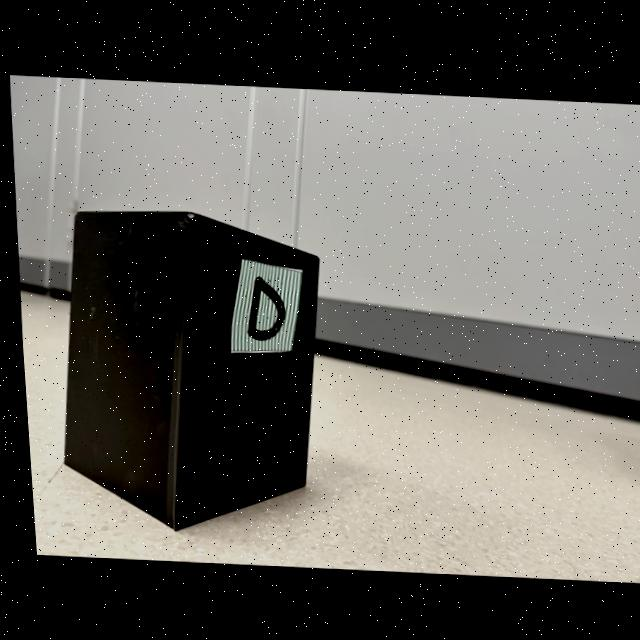D: (242, 274, 280, 338)
